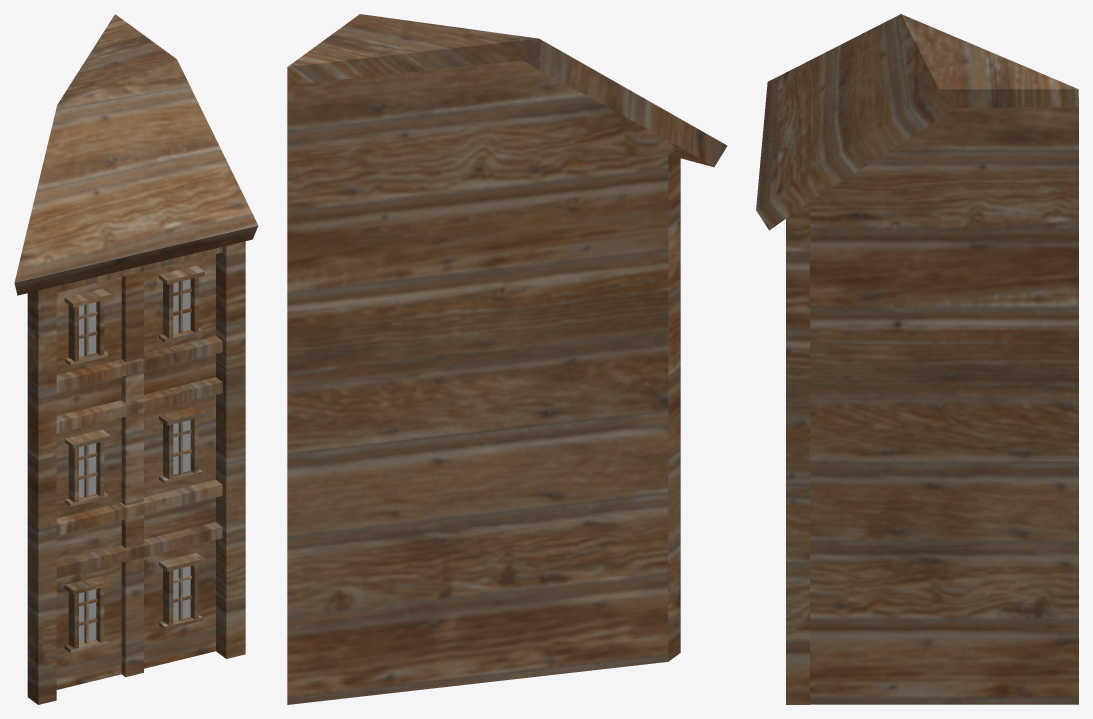
The model's file is Townhouse_tilted.fbx.
3 renders of one model, left to right at view 1: azimuth 30°, elevation 25°; view 2: azimuth 150°, elevation 25°; view 3: azimuth 270°, elevation 25°, orthographic. The views are drawn at different scales.
Parts seen in each view (by area): view 1: tiltedHouse1; view 2: tiltedHouse1; view 3: tiltedHouse1.
Part boxes in pixels (box(x1,y1,x2,y2)): tiltedHouse1: box(14, 14, 258, 704); tiltedHouse1: box(287, 14, 727, 704); tiltedHouse1: box(756, 14, 1078, 704).
Size of the model in its own units: 34.75 by 75.7 by 36.
